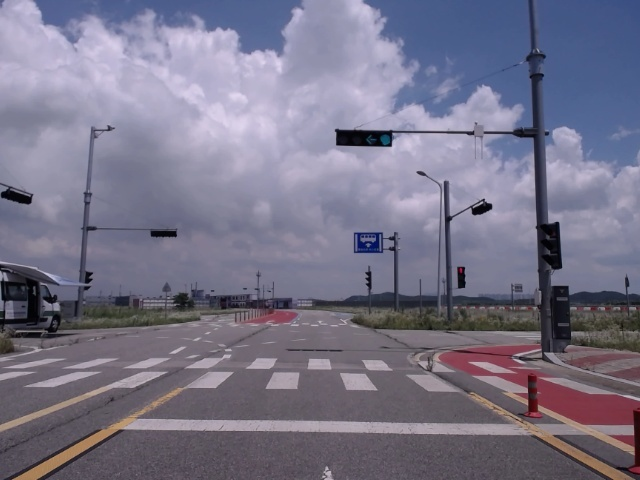all_green_4: (338, 129, 392, 147)
